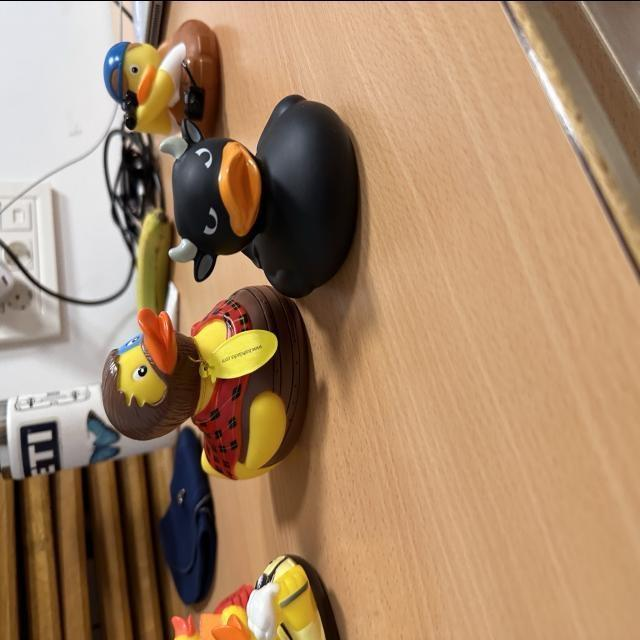rubber-duck: (101, 285, 307, 477), (160, 94, 356, 295), (102, 19, 219, 137)
